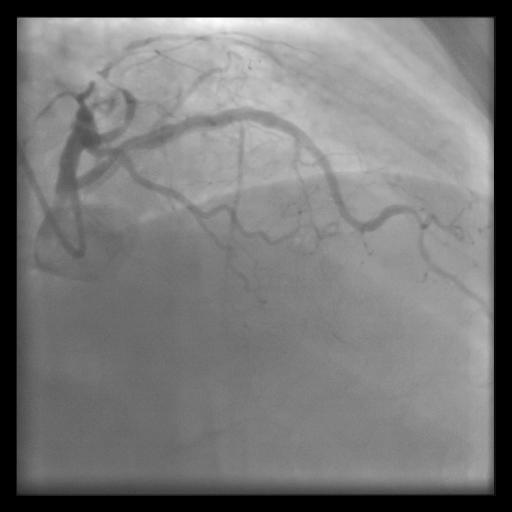Stenosis: (109, 136, 149, 155)
